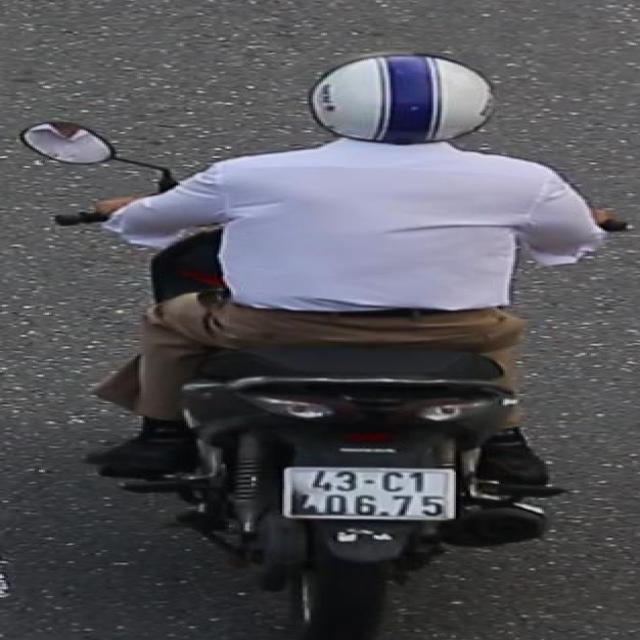LP: (273, 461, 463, 525)
helmet: (306, 47, 502, 152)
